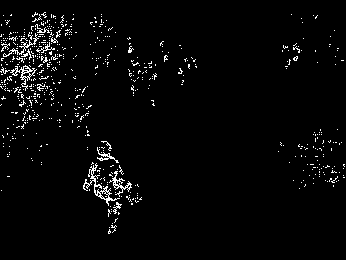person: (78, 141, 144, 235), (141, 62, 160, 106), (128, 59, 138, 95)
